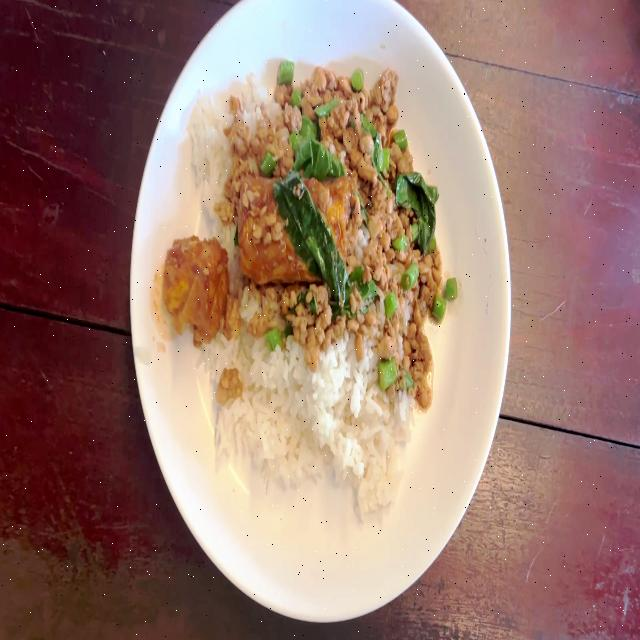fried_tofo: (237, 177, 344, 270), (165, 236, 224, 338)
minced_pork: (344, 174, 446, 400), (232, 66, 409, 178), (240, 276, 352, 351)
rice: (221, 356, 415, 506)
stir_fried_basil: (162, 56, 461, 535)
